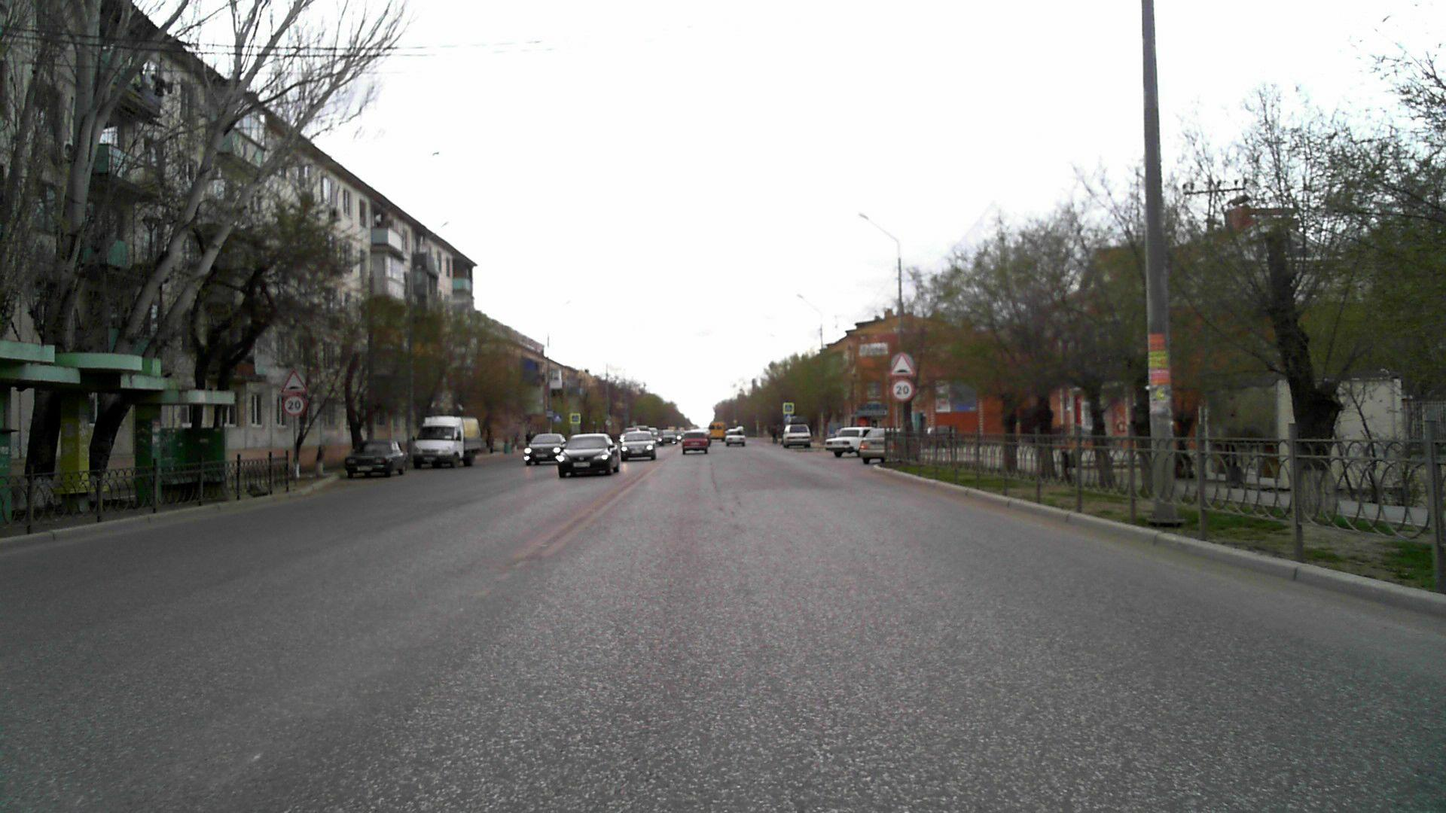road_sign: (889, 351, 917, 376), (892, 378, 914, 401)
